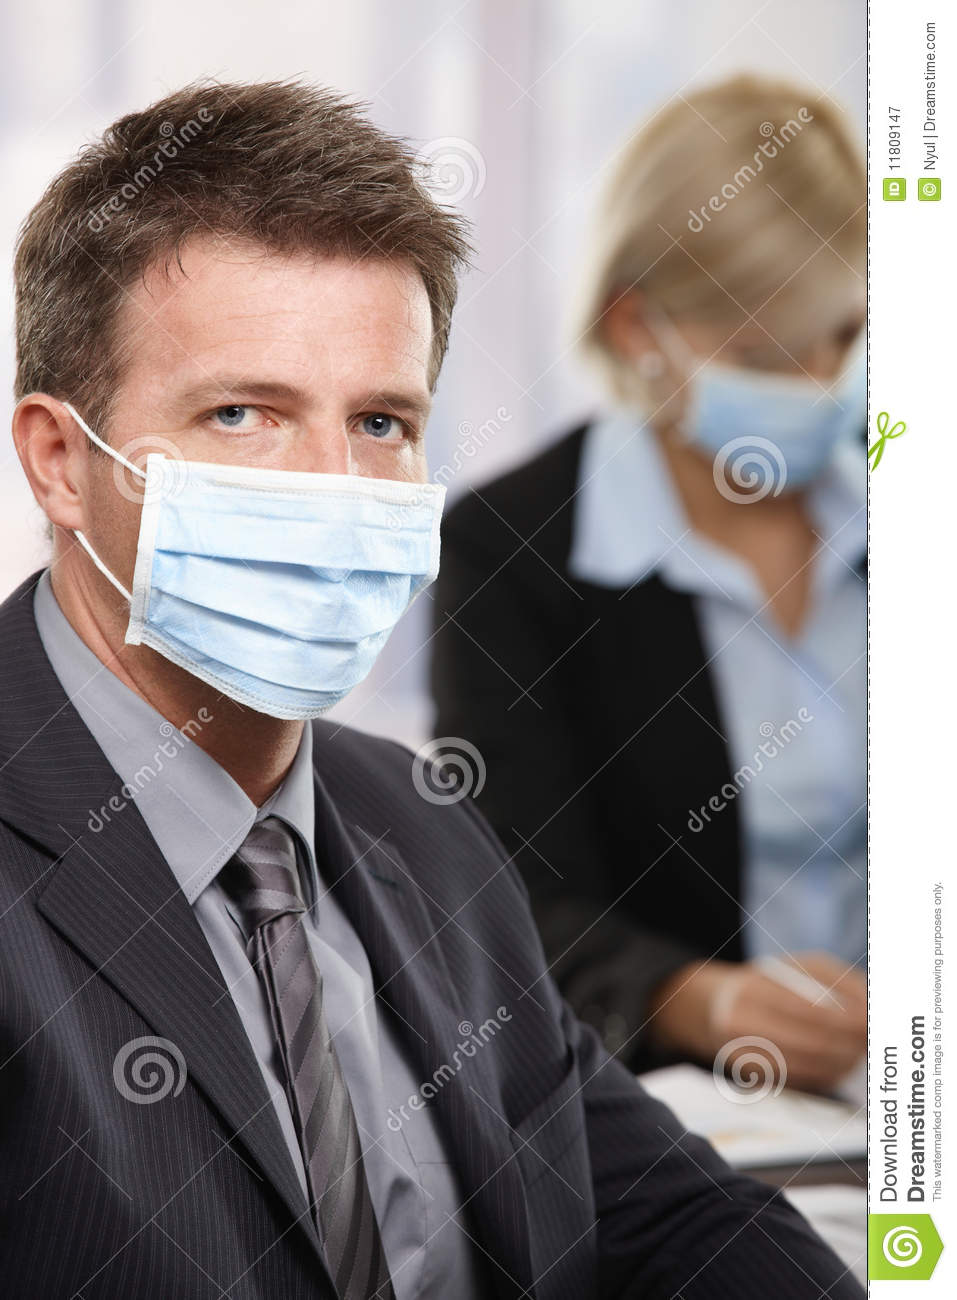mask: (115, 454, 446, 722)
